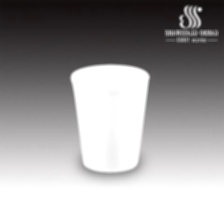glass: (62, 59, 153, 180)
